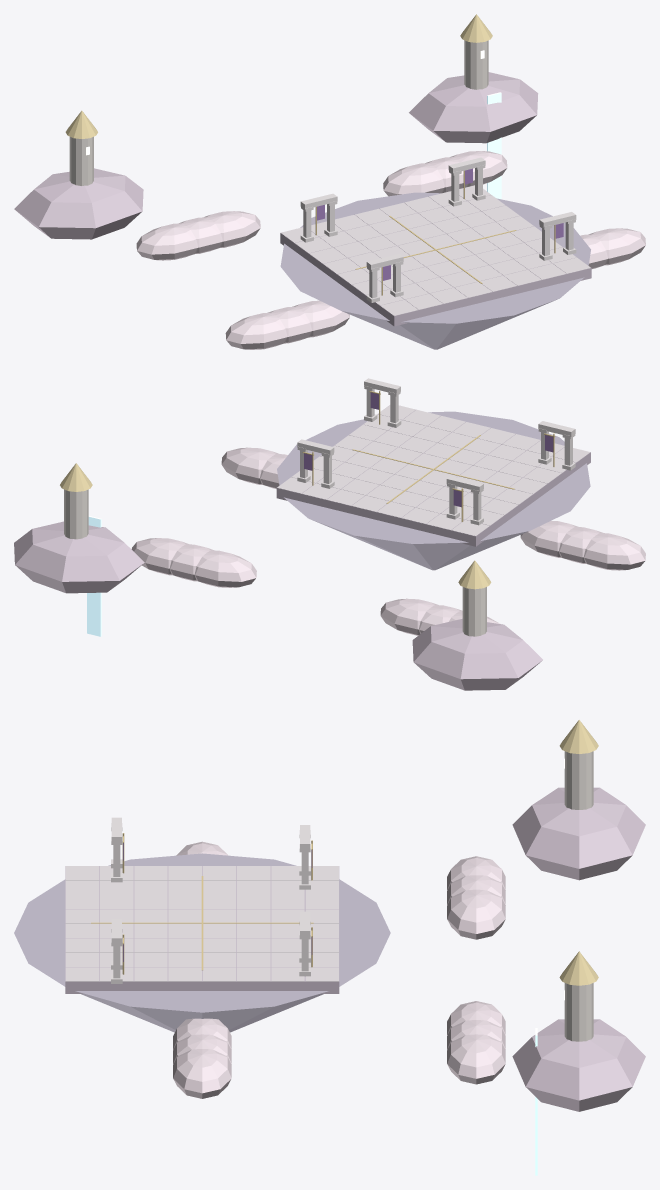
Rendered from 08_Sky_Island.glb.
3 renders of one model, top to bottom at view 1: azimuth 30°, elevation 25°; view 2: azimuth 150°, elevation 25°; view 3: azimuth 270°, elevation 25°, orthographic. The views are drawn at different scales.
Parts seen in each view (by area): view 1: cloud (×11), far_island (×2), island_rock, Arena_Base, tower (×2), roof (×2), falling_water; view 2: far_island (×2), cloud (×10), island_rock, Arena_Base, tower (×2), roof (×2), falling_water; view 3: far_island (×2), island_rock, cloud (×9), Arena_Base, tower (×2), roof (×2).
Part boxes in pixels (x1,y1,x2,y2): cloud (×11): (136, 151, 645, 349); far_island (×2): (14, 72, 538, 239); island_rock: (280, 192, 590, 349); Arena_Base: (280, 195, 591, 326); tower (×2): (69, 40, 488, 185); roof (×2): (65, 14, 492, 138); falling_water: (487, 92, 501, 199); far_island (×2): (14, 521, 542, 690); cloud (×10): (131, 447, 645, 635); island_rock: (277, 411, 590, 570); Arena_Base: (276, 409, 590, 546); tower (×2): (64, 489, 486, 636); roof (×2): (60, 463, 491, 589); falling_water: (87, 516, 101, 636); far_island (×2): (512, 787, 645, 1111); island_rock: (14, 853, 390, 1032); cloud (×9): (173, 856, 505, 1098); Arena_Base: (65, 866, 339, 993); tower (×2): (564, 751, 593, 1041); roof (×2): (559, 720, 598, 985).
Bounding box in the file's own units: 41.5 × 14.2 × 36.9.
